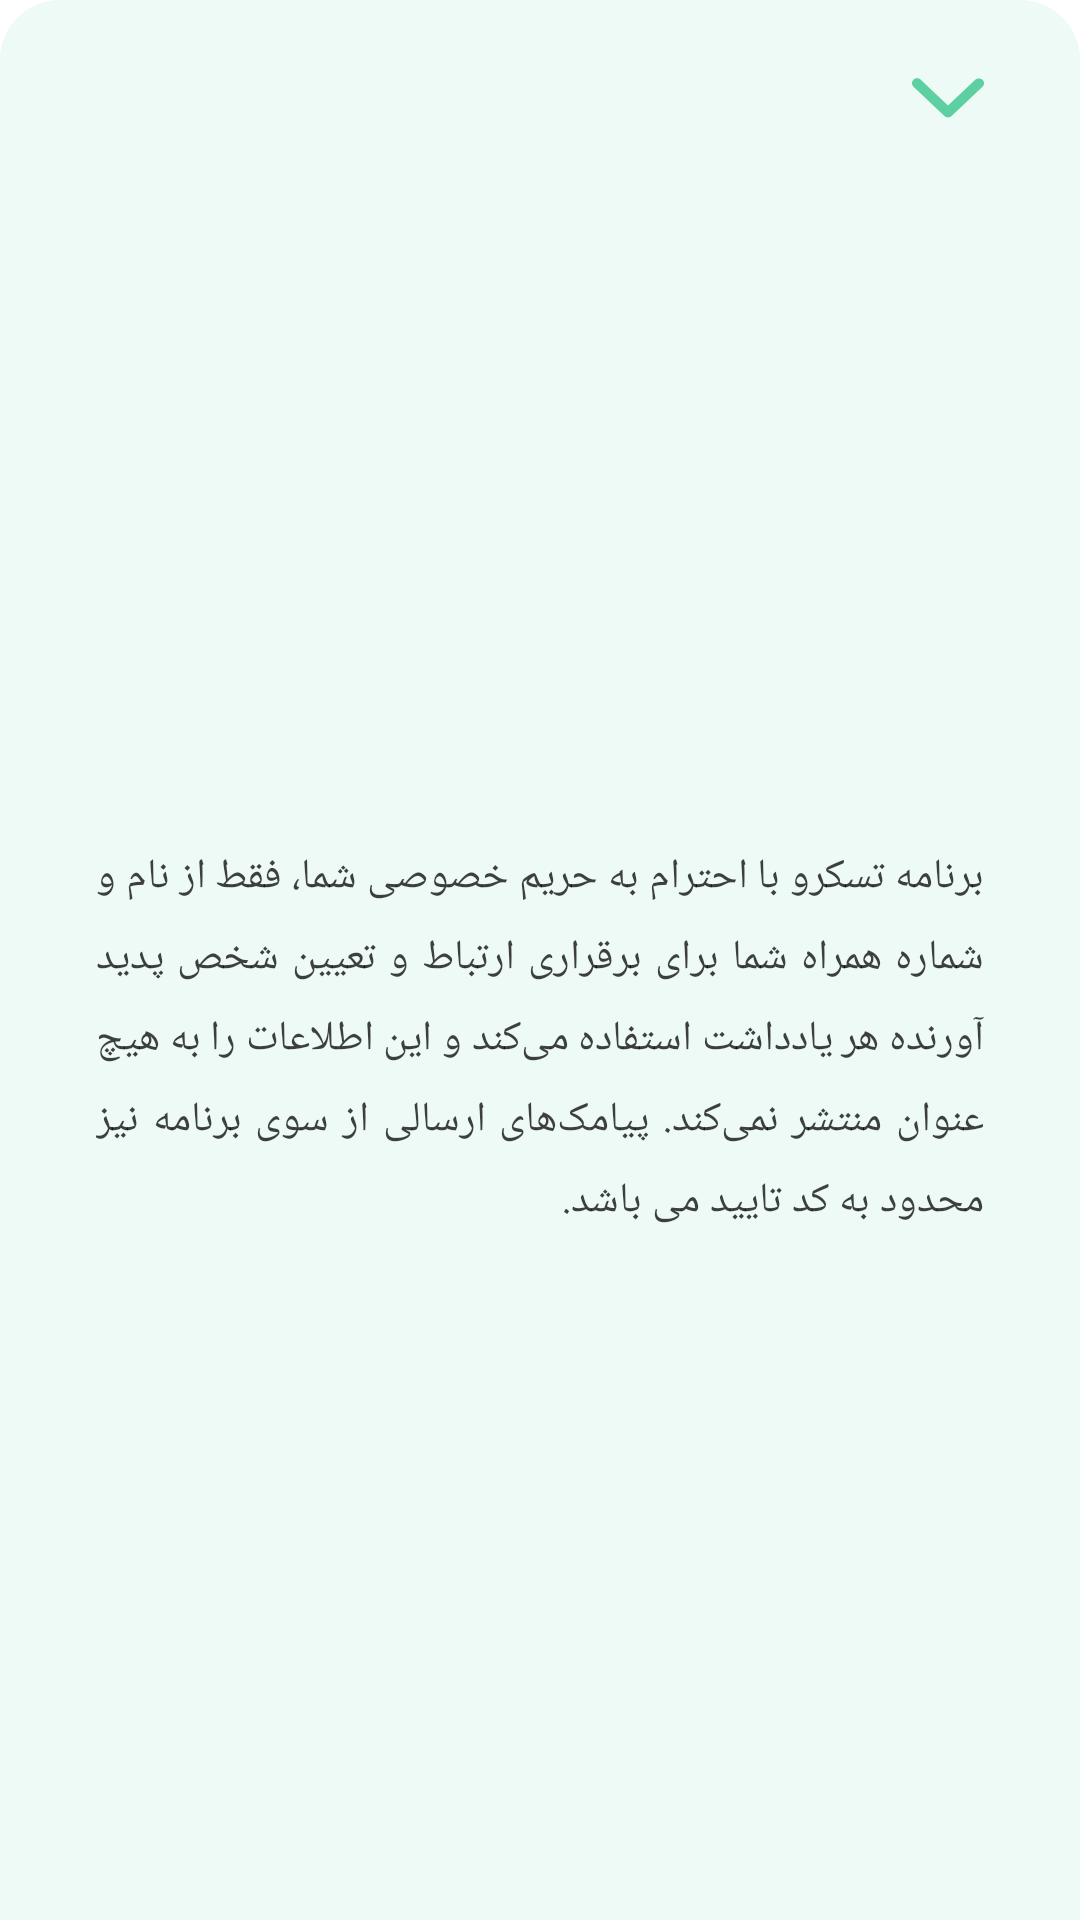

Icon bounding boxes for this 1080x1920 phone screenshot, format BBox(x1, y1, x2, y2):
down: BBox(912, 78, 984, 118)
